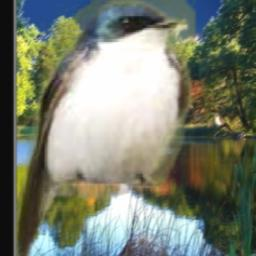Cuckoo: (212, 113, 233, 133)
Swallow: (15, 0, 194, 256)
